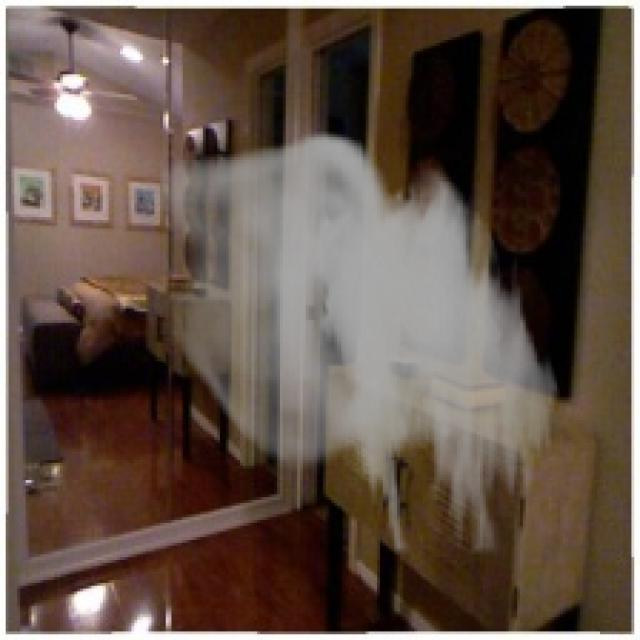smoke: (157, 132, 563, 554)
